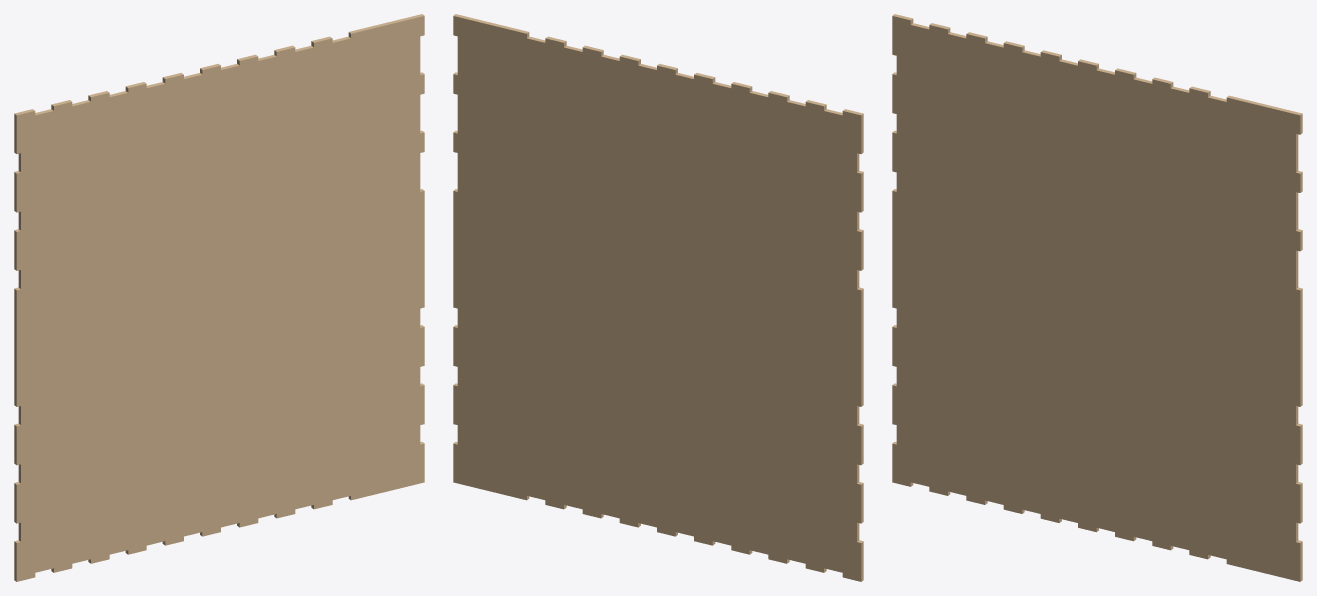
The model's file is NyxBoxV1_NyxRoyalLitterBot v106_MeshShelfSide_1_Body1.obj.
3 renders of one model, left to right at view 1: azimuth 30°, elevation 25°; view 2: azimuth 150°, elevation 25°; view 3: azimuth 330°, elevation 25°, orthographic.
Parts seen in each view (by area): view 1: Body1; view 2: Body1; view 3: Body1.
Part boxes in pixels (<box>): Body1: <box>14,14,424,581</box>; Body1: <box>453,14,863,581</box>; Body1: <box>892,14,1302,581</box>.
Bounding box in the file's own units: 558 × 610 × 6.
